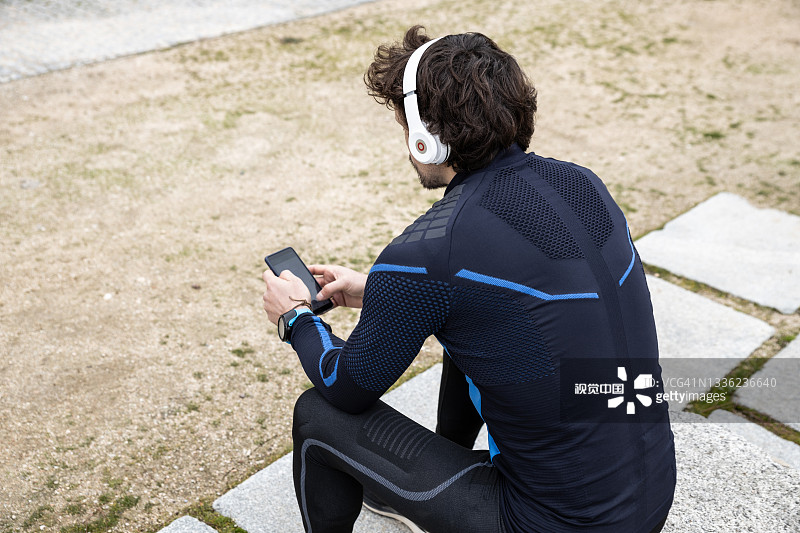reading: (244, 240, 370, 332)
